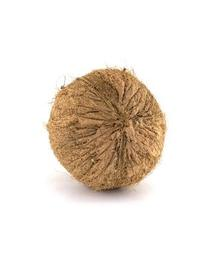coconut: (43, 67, 167, 193)
